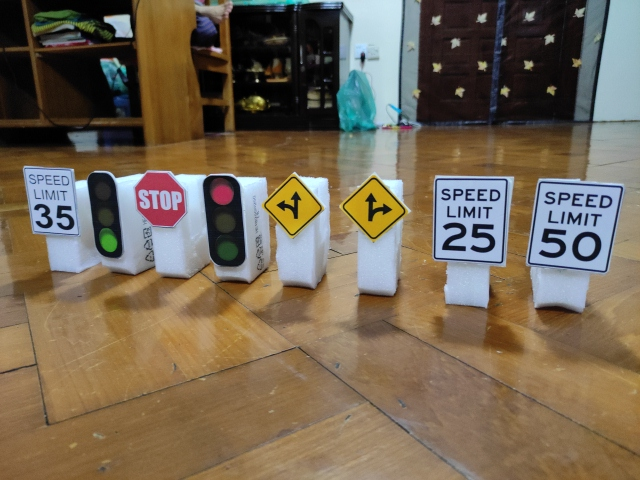Green Traffic Light: (85, 171, 125, 258)
Red Traffic Light: (203, 173, 248, 268)
Speed Limit 25: (431, 176, 510, 263)
Speed Limit 35: (23, 165, 81, 237)
Speed Limit 50: (528, 179, 626, 274)
Stop Sign: (134, 171, 189, 229)
Straight Or Left Sign: (262, 176, 324, 237)
Straight Or Right Sign: (339, 177, 408, 241)
